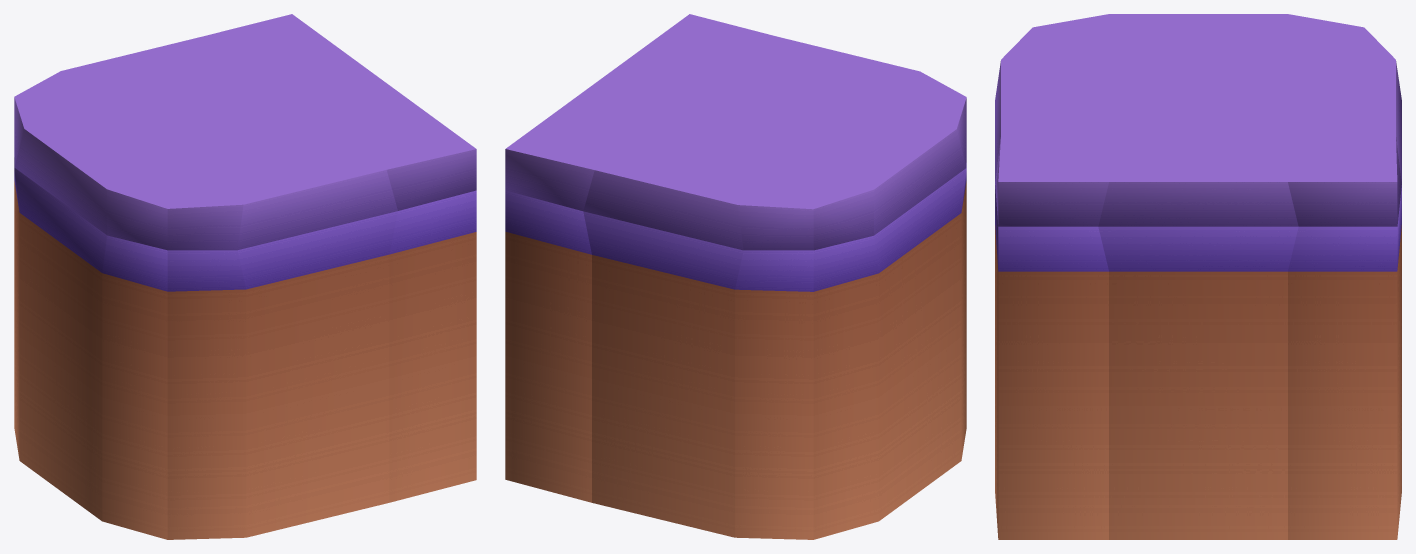
Rendered from bloco de grama 2 cantos.glb.
3 renders of one model, left to right at view 1: azimuth 30°, elevation 25°; view 2: azimuth 150°, elevation 25°; view 3: azimuth 270°, elevation 25°, orthographic. The views are drawn at different scales.
Visible parts, largest first — view 1: block-grass; view 2: block-grass; view 3: block-grass.
Part boxes in pixels (x1,y1,x2,y2): block-grass: (14, 14, 476, 539); block-grass: (505, 14, 966, 539); block-grass: (995, 14, 1401, 539).
Size of the model in its own units: 1.02 by 1 by 1.03.
Materials: 1 (1 with a texture image).
